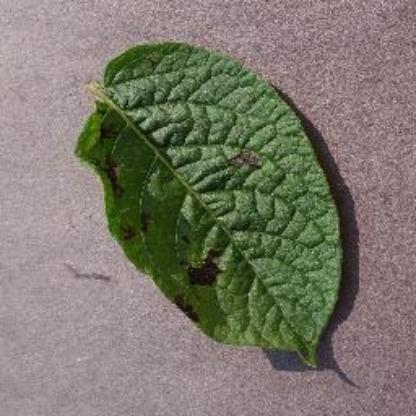Late-Blight: (63, 26, 365, 386)
